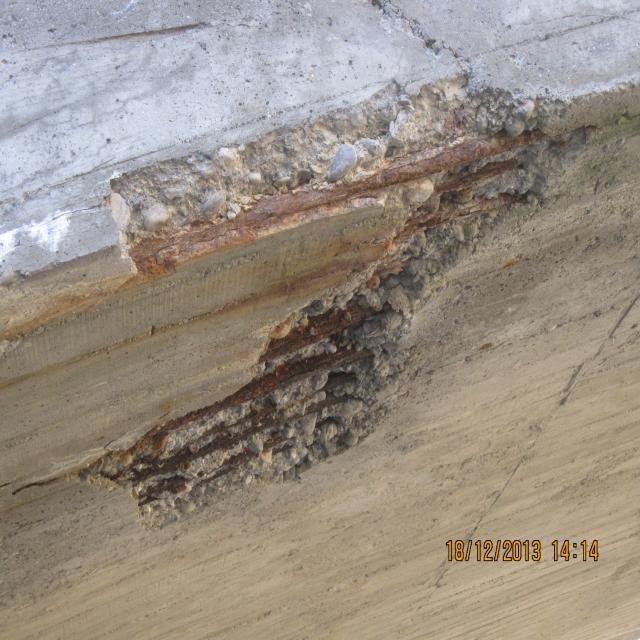corrosion: (0, 99, 541, 513)
